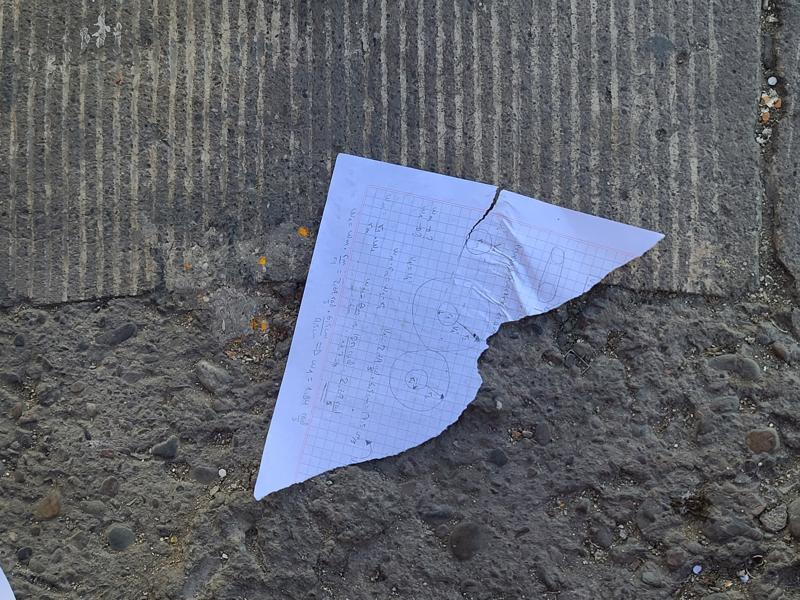papel: (250, 154, 664, 501)
